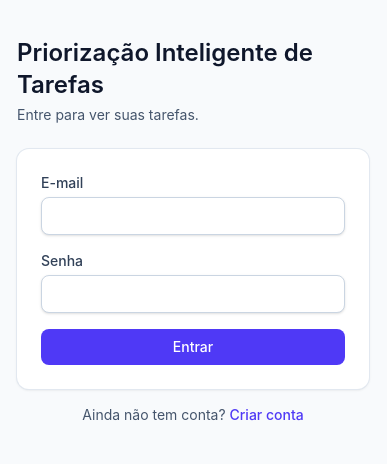
it: App › mostra o erro da API quando o login falha
Type "ana@exemplo.com" into the field labelled "E-mail". click: (193, 216)
box: [41,197,345,235]
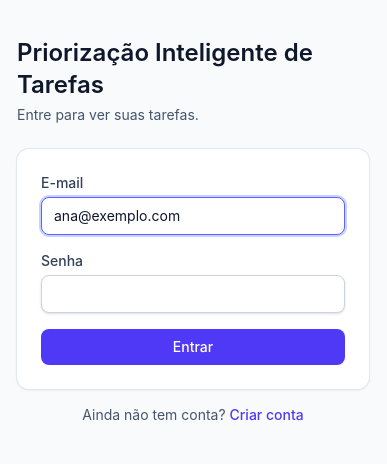
Type "errada123" into the password field labelled "Senha". click: (193, 294)
box: [41,275,345,313]
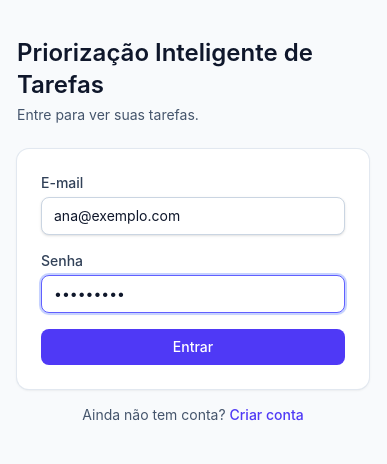
Click the button "Entrar". click: (193, 347)
box: [41,329,345,365]
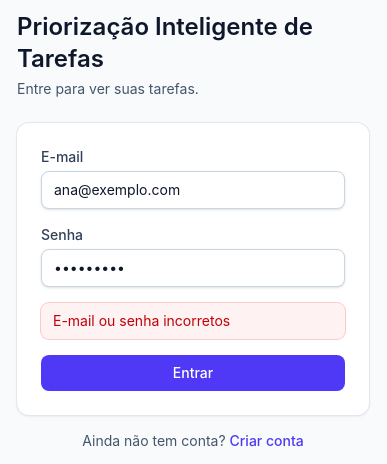
Expected: the message reads "E-mail ou senha incorretos", [53,312,230,329]
